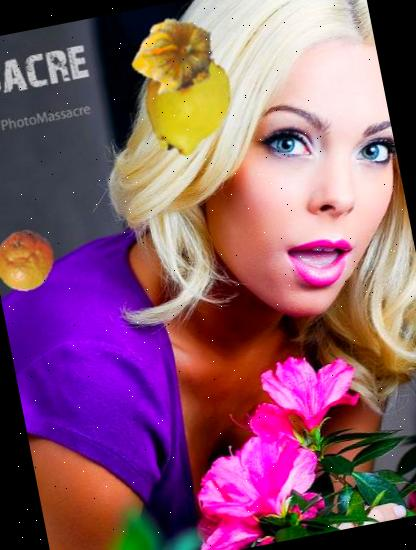Mandarine: (0, 224, 60, 296)
Physalis: (122, 3, 225, 106)
Quince: (122, 37, 250, 163)
